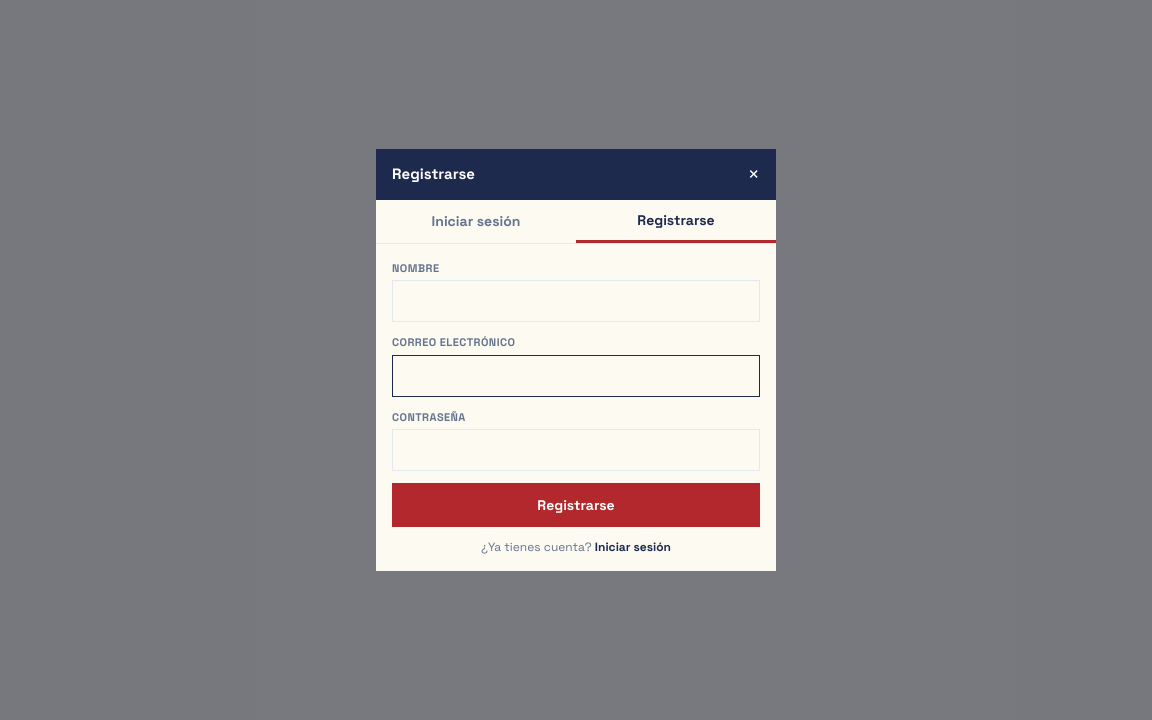
Scenario: AuthModal › surfaces the signup API message without signing in
Type "Coach" into the field labelled "Nombre".
click(576, 301); type("Coach")  # box [392,280,760,322]
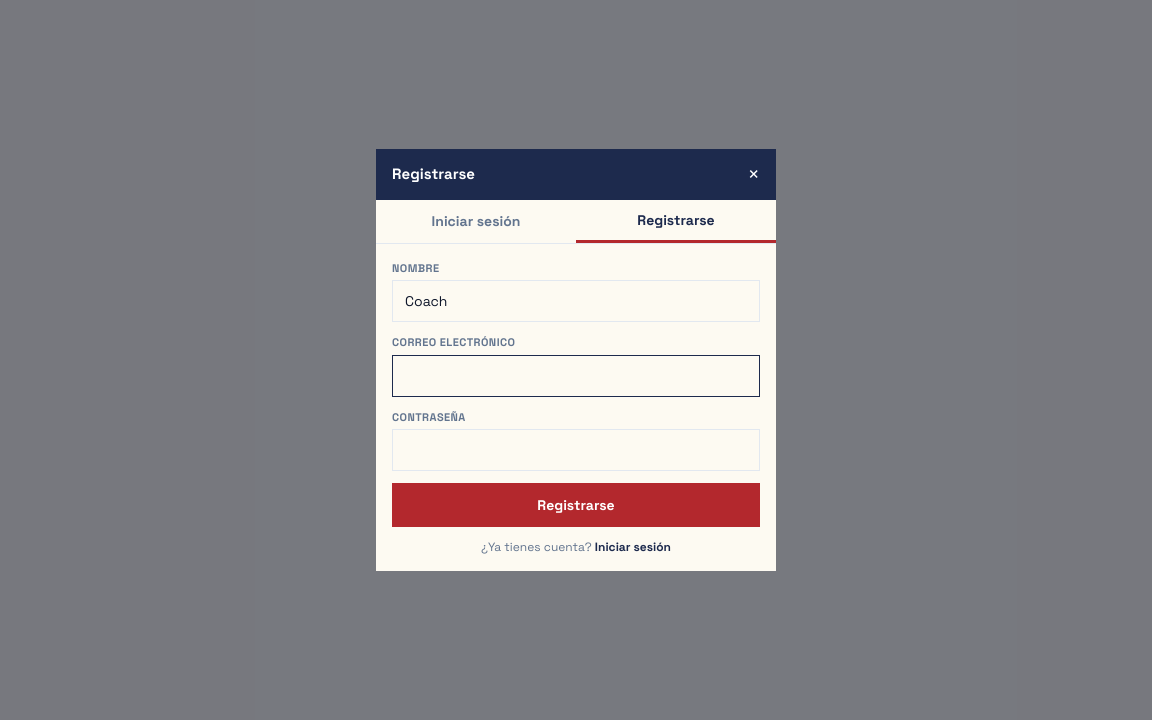
Type "taken@example.com" into the field labelled "Correo electrónico".
click(576, 376); type("taken@example.com")  # box [392,354,760,396]
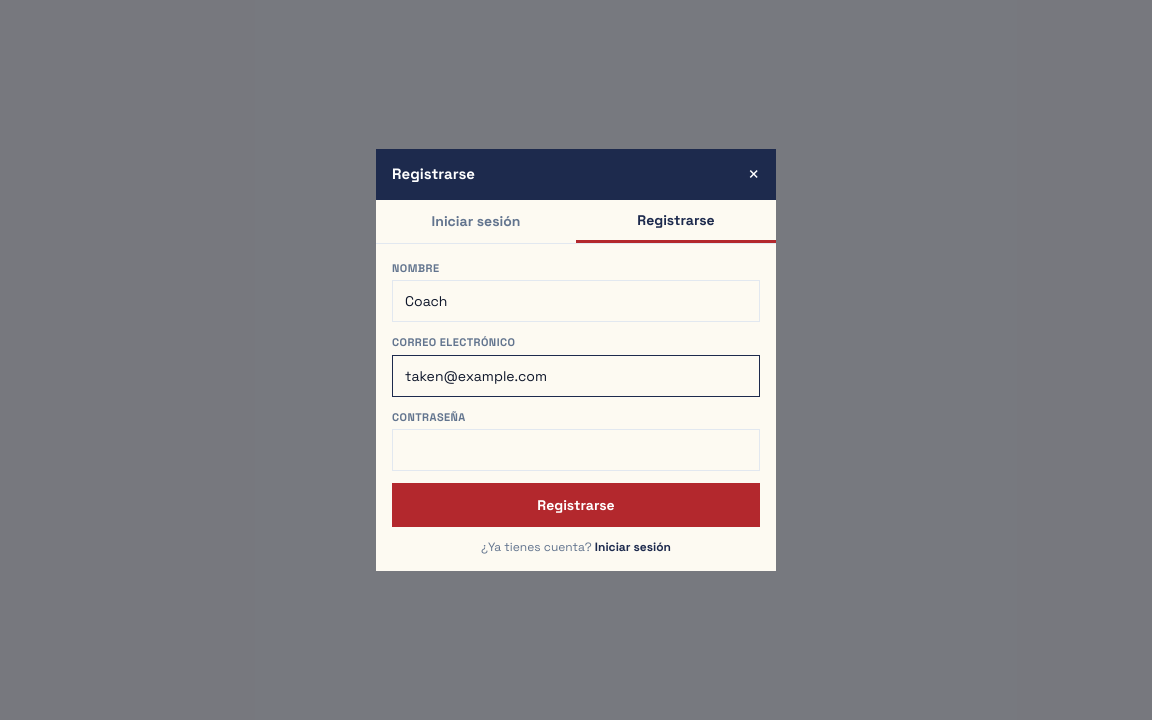
Type "SuperSecret123!" into the password field labelled "Contraseña".
click(576, 450); type("SuperSecret123!")  # box [392,429,760,471]
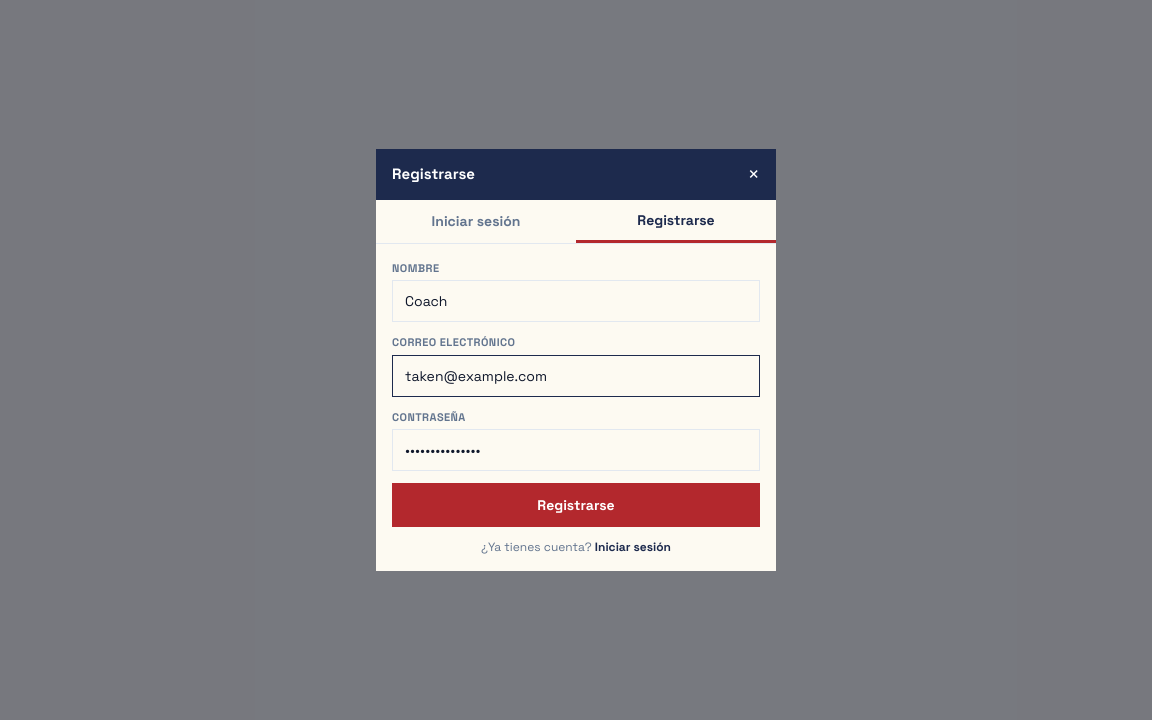
Click the button "Registrarse" below "Contraseña".
click(576, 505)  # box [392,483,760,527]
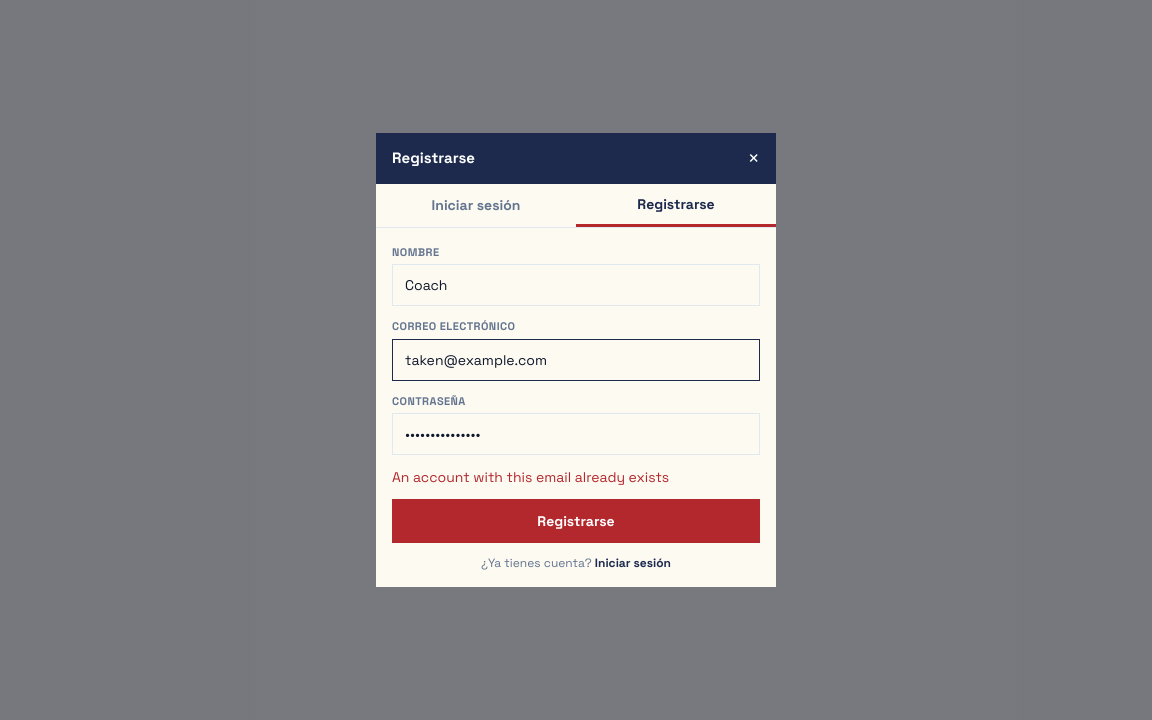
Expected: the message reads "An account with this email already exists", [392,468,669,486]
